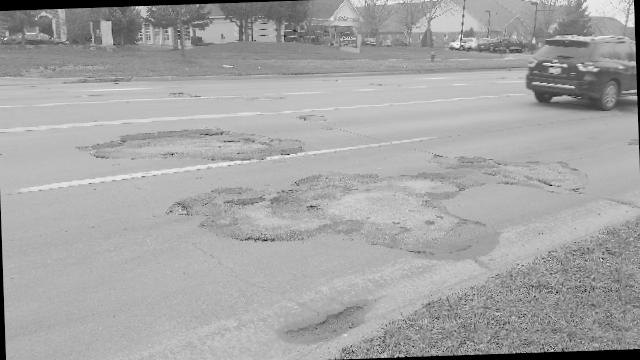Pothole: (189, 163, 592, 274), (79, 112, 312, 173)
